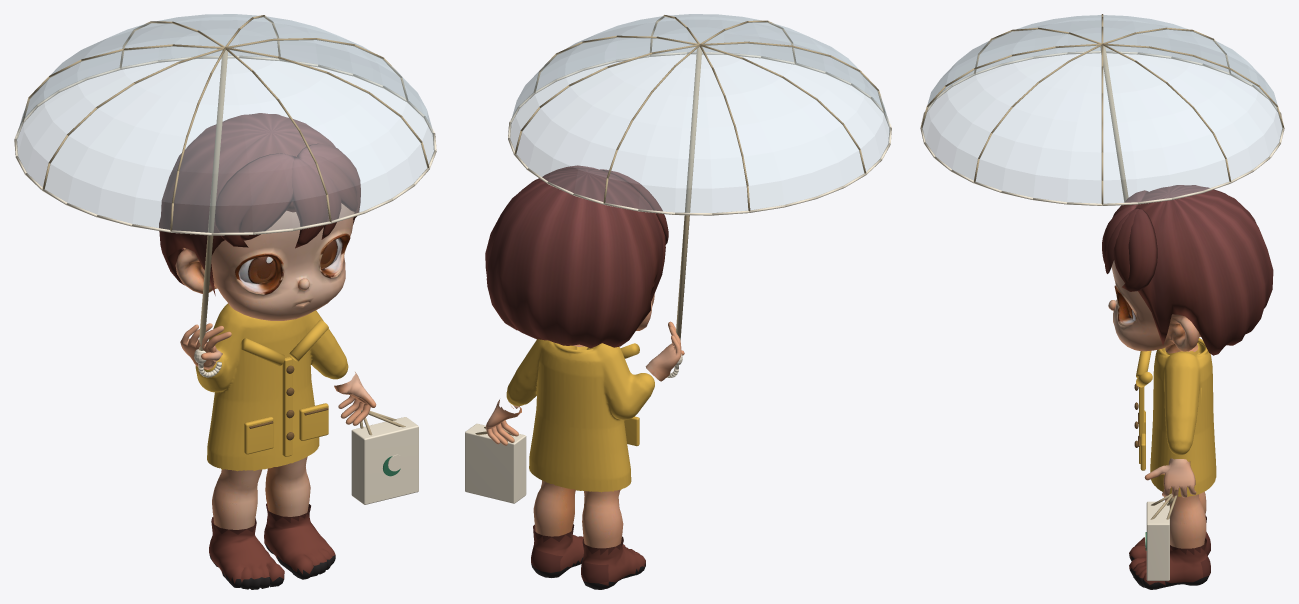
Rendered from visitor-candidate-v10.glb.
3 views of the same model, side by side, from view 1: azimuth 30°, elevation 25°; view 2: azimuth 150°, elevation 25°; view 3: azimuth 270°, elevation 25° (orthographic). The views are drawn at different scales.
Visible parts, largest first — view 1: Static Transparent umbrella canopy, Static Hair_Bob, Static Base_Body, Static Collar left, Static Shopping bag, Static Boots, Static Bag handle; view 2: Static Transparent umbrella canopy, Static Hair_Bob, Static Collar left, Static Shopping bag, Static Base_Body, Static Bag handle, Static Boots; view 3: Static Transparent umbrella canopy, Static Hair_Bob, Static Collar left, Static Base_Body, Static Bag handle, Static Shopping bag, Static Boots.
Part boxes in pixels (x1,y1,x2,y2): Static Transparent umbrella canopy: [16, 14, 434, 232]; Static Hair_Bob: [159, 113, 360, 295]; Static Base_Body: [175, 203, 376, 529]; Static Collar left: [195, 303, 348, 471]; Static Shopping bag: [14, 56, 436, 504]; Static Boots: [209, 503, 335, 589]; Static Bag handle: [22, 15, 429, 435]; Static Transparent umbrella canopy: [509, 14, 889, 212]; Static Hair_Bob: [485, 165, 668, 348]; Static Collar left: [506, 339, 654, 492]; Static Shopping bag: [465, 52, 891, 503]; Static Base_Body: [485, 294, 684, 548]; Static Bag handle: [475, 15, 884, 441]; Static Boots: [531, 524, 645, 589]; Static Transparent umbrella canopy: [922, 15, 1282, 203]; Static Hair_Bob: [1102, 185, 1273, 355]; Static Collar left: [1136, 338, 1216, 496]; Static Base_Body: [1108, 260, 1206, 548]; Static Bag handle: [921, 14, 1283, 519]; Static Shopping bag: [920, 51, 1284, 580]; Static Boots: [1129, 515, 1210, 589].
Size of the model in its own units: 0.9516 by 1.29 by 0.8656.
Materials: 12 (2 with a texture image).
